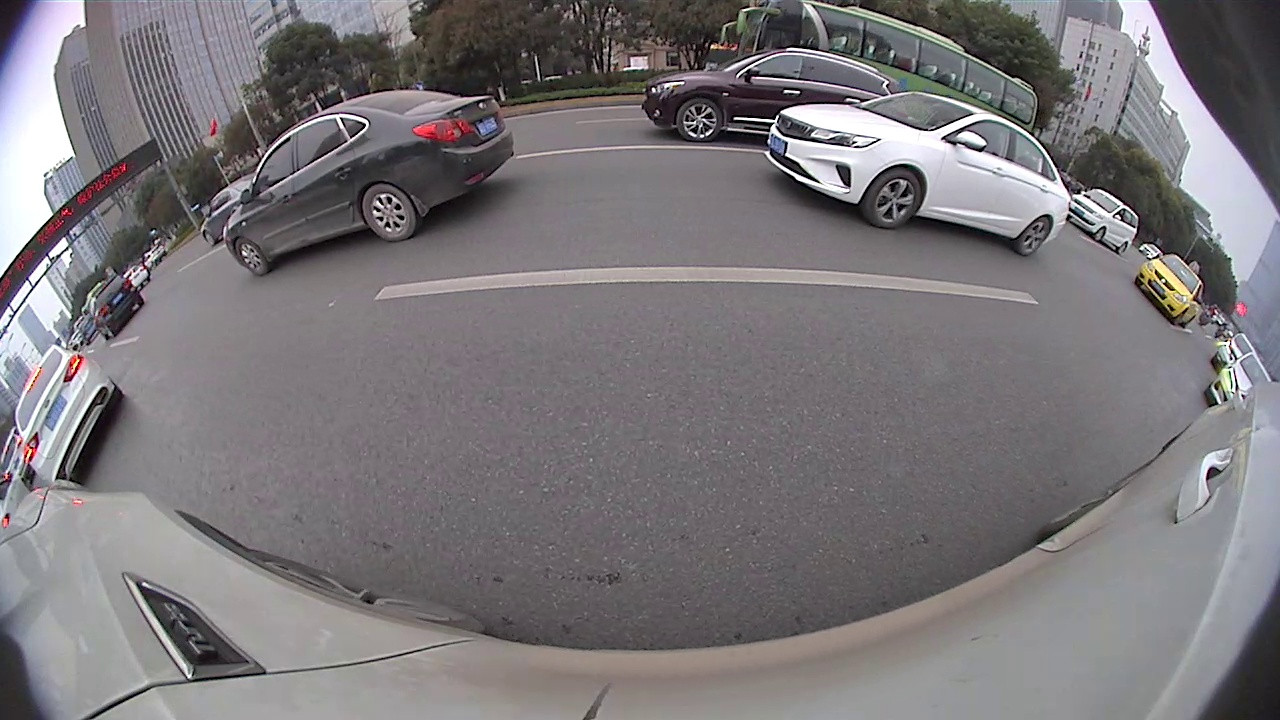bus: (713, 4, 1042, 140)
car: (219, 86, 516, 281), (765, 84, 1075, 261), (641, 48, 897, 147), (13, 340, 125, 489), (1130, 253, 1209, 328), (1067, 183, 1139, 258), (1202, 349, 1273, 416)
front: (862, 168, 920, 228), (675, 98, 723, 142), (236, 238, 269, 278)
rear: (363, 181, 419, 240), (1017, 217, 1052, 256)
